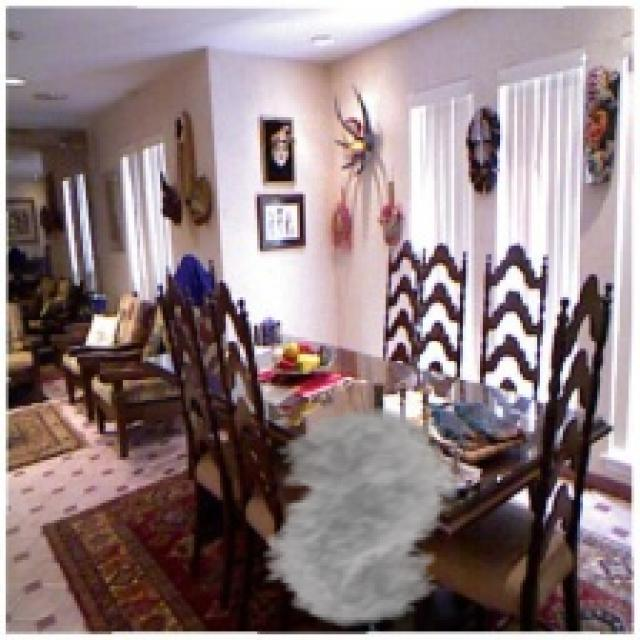Smoke: (237, 406, 480, 628)
